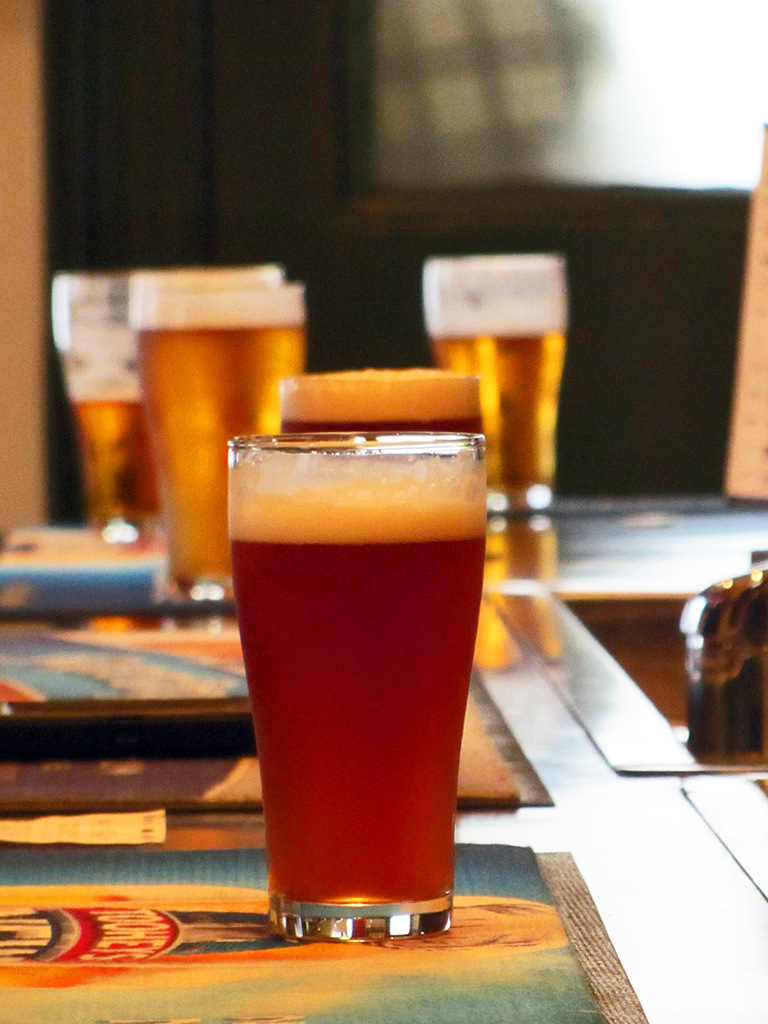Beer: (226, 469, 480, 900), (141, 325, 302, 586), (427, 328, 568, 513), (279, 366, 482, 436), (74, 384, 146, 533)
